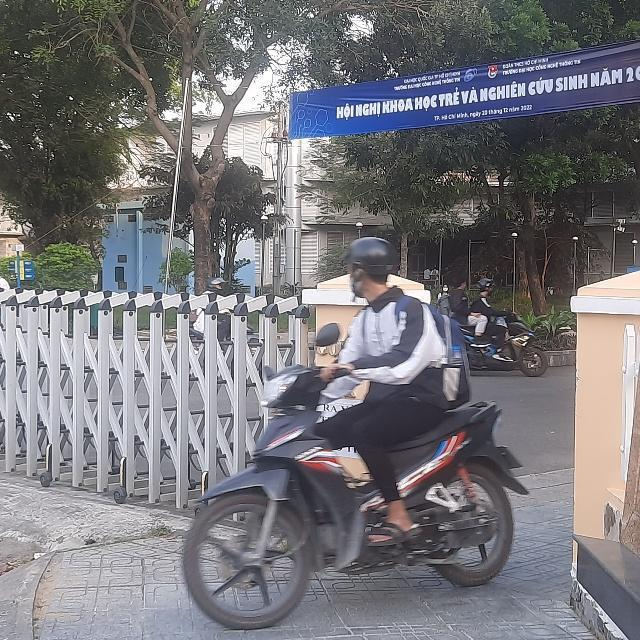Helmet: (346, 235, 398, 298)
